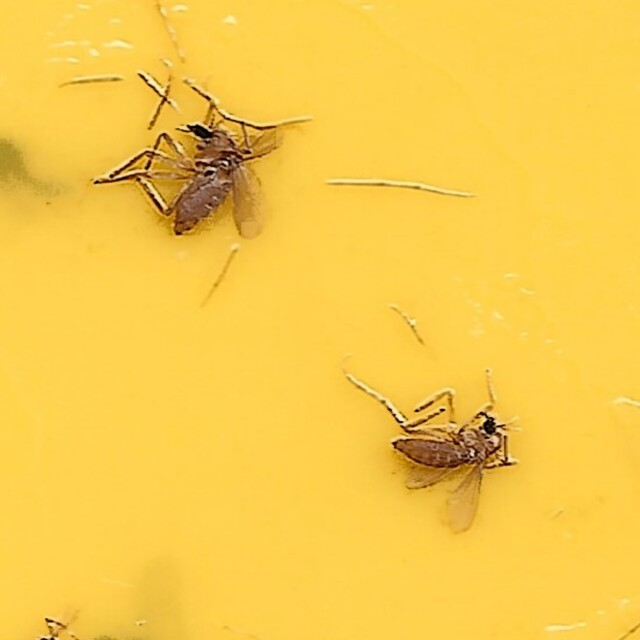Nematocera: (116, 103, 283, 250), (386, 375, 524, 537)
